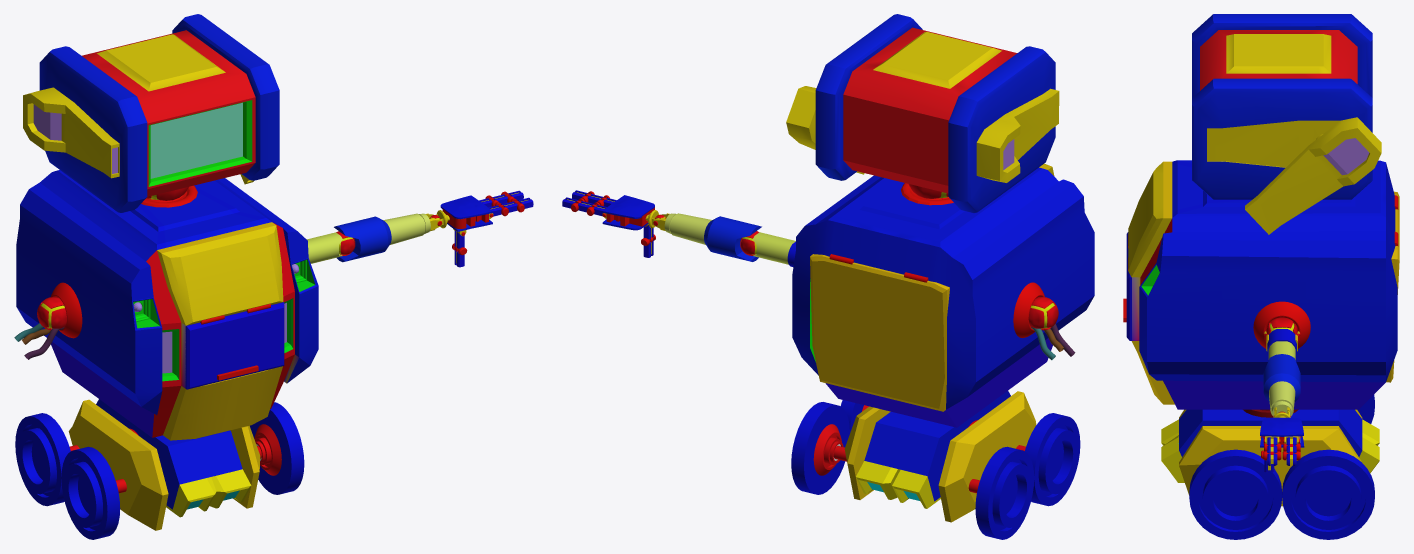
Rendered from RB_Model_RustBucket_v8_SamJameson_2022_01_31.fbx.
3 renders of one model, left to right at view 1: azimuth 30°, elevation 25°; view 2: azimuth 150°, elevation 25°; view 3: azimuth 270°, elevation 25°, orthographic.
Visible parts, largest first — view 1: RB_Model_RustBucket_v8_SamJameson_2022_01_31; view 2: RB_Model_RustBucket_v8_SamJameson_2022_01_31; view 3: RB_Model_RustBucket_v8_SamJameson_2022_01_31.
Part boxes in pixels (x1,y1,x2,y2): RB_Model_RustBucket_v8_SamJameson_2022_01_31: (14, 14, 533, 539); RB_Model_RustBucket_v8_SamJameson_2022_01_31: (562, 14, 1094, 539); RB_Model_RustBucket_v8_SamJameson_2022_01_31: (1123, 14, 1399, 539).
Bounding box in the file's own units: 182 × 151 × 85.88.
